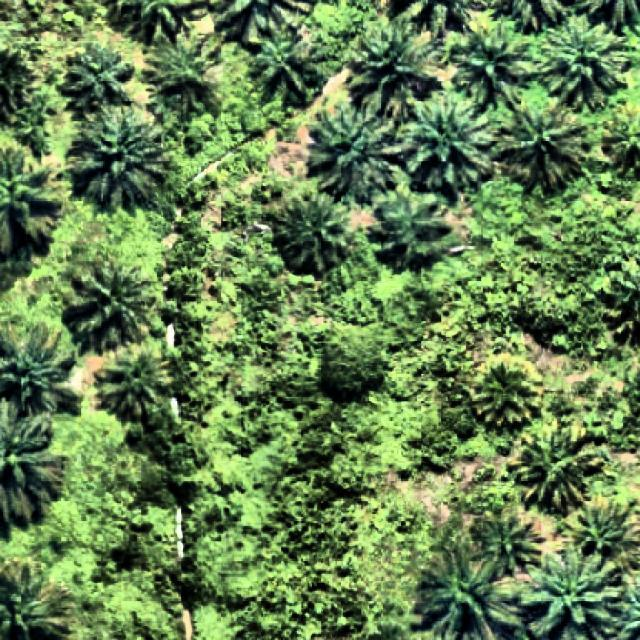Kelapa_Sawit: (68, 98, 176, 215), (303, 97, 406, 206), (402, 88, 496, 204), (60, 252, 157, 354), (495, 96, 591, 196), (508, 422, 606, 518), (539, 13, 630, 112), (346, 23, 439, 117), (447, 19, 538, 112), (270, 186, 356, 274), (143, 28, 222, 122), (368, 187, 454, 273), (248, 13, 326, 106), (93, 342, 175, 424), (564, 494, 636, 580), (469, 504, 546, 580), (62, 40, 136, 119), (474, 356, 543, 432)
